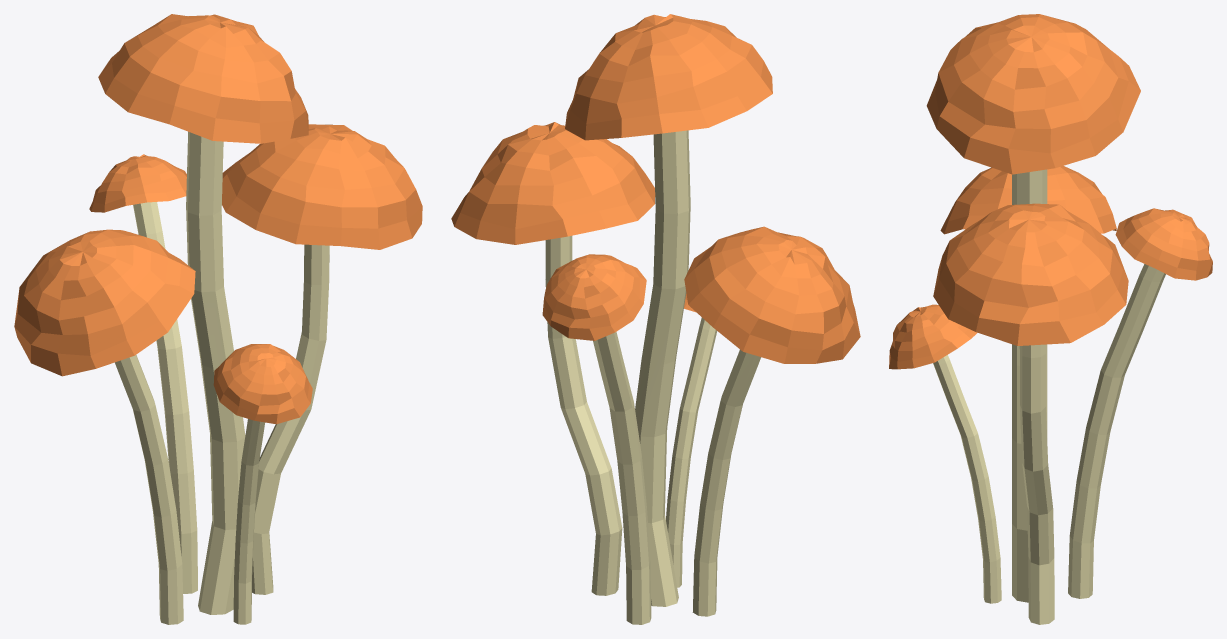
The model's file is lpmush.glb.
3 renders of one model, left to right at view 1: azimuth 30°, elevation 25°; view 2: azimuth 150°, elevation 25°; view 3: azimuth 270°, elevation 25°, orthographic. The views are drawn at different scales.
Parts seen in each view (by area): view 1: грибы; view 2: грибы; view 3: грибы.
Boxes of the visible parts, x1,y1,x2,y2 form: грибы: [14, 14, 422, 624]; грибы: [451, 14, 860, 624]; грибы: [889, 14, 1212, 624].
Bounding box in the file's own units: 0.6374 × 0.9491 × 0.491.
